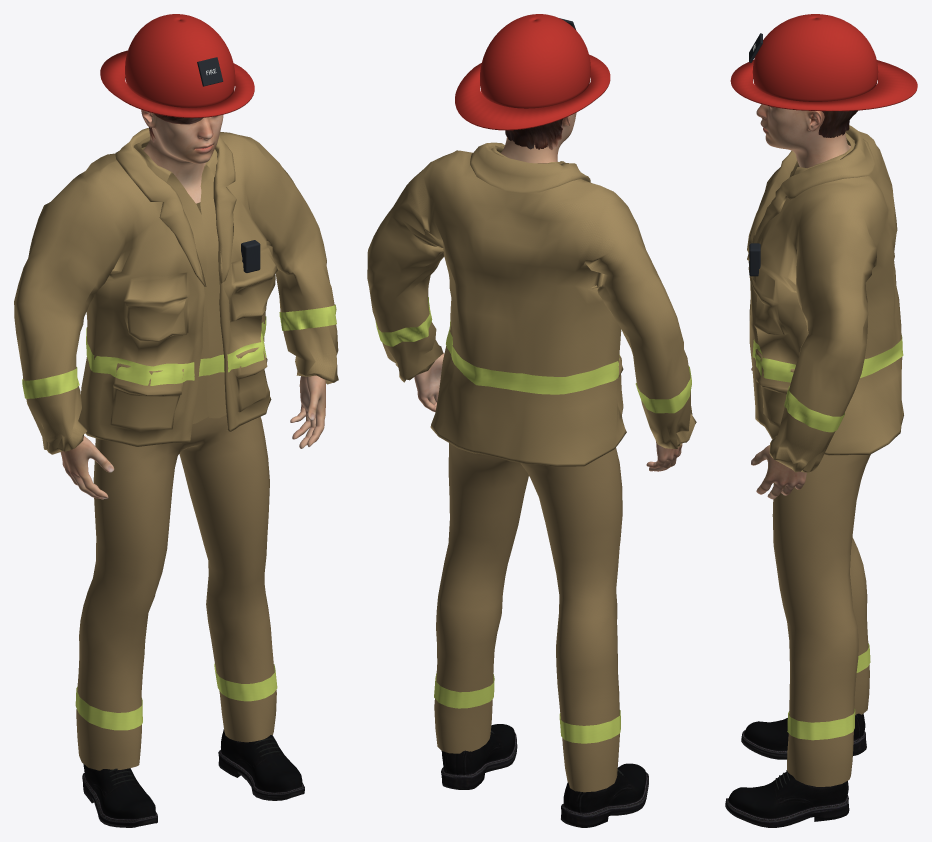
Rendered from firefighter.glb.
3 renders of one model, left to right at view 1: azimuth 30°, elevation 25°; view 2: azimuth 150°, elevation 25°; view 3: azimuth 270°, elevation 25°, orthographic.
Parts seen in each view (by area): view 1: male_casualsuit05, Fire helmet shell, Finley | anatomical body, shoes03, Uniform fitted band, Fire helmet extended brim, Uniform fitted band.001, Uniform fitted band.003, Uniform fitted band.004, Uniform fitted band.002; view 2: male_casualsuit05, Fire helmet shell, shoes03, Fire helmet extended brim, Uniform fitted band, Finley | anatomical body, Uniform fitted band.001, short03, Uniform fitted band.003, Uniform fitted band.004, Uniform fitted band.002; view 3: male_casualsuit05, Fire helmet shell, shoes03, Finley | anatomical body, Fire helmet extended brim, Uniform fitted band, Uniform fitted band.003, Uniform fitted band.004, short03, Firefighter radio.
Boxes of the visible parts, x1,y1,x2,y2 form: male_casualsuit05: (14,127,338,770); Fire helmet shell: (125,14,235,107); Finley | anatomical body: (60,110,325,499); shoes03: (82,729,304,827); Uniform fitted band: (86,316,266,385); Fire helmet extended brim: (100,50,254,118); Uniform fitted band.001: (75,686,142,730); Uniform fitted band.003: (214,663,277,701); Uniform fitted band.004: (279,304,336,330); Uniform fitted band.002: (22,367,79,398); male_casualsuit05: (367,142,696,792); Fire helmet shell: (480,14,590,108); shoes03: (441,724,648,827); Fire helmet extended brim: (455,54,610,130); Uniform fitted band: (446,320,619,394); Finley | anatomical body: (414,112,682,471); Uniform fitted band.001: (559,710,620,743); short03: (505,119,562,149); Uniform fitted band.003: (434,673,494,708); Uniform fitted band.004: (375,297,432,346); Uniform fitted band.002: (635,366,691,413); male_casualsuit05: (747,125,903,786); Fire helmet shell: (752,14,878,101); shoes03: (725,713,866,827); Finley | anatomical body: (751,104,850,499); Fire helmet extended brim: (730,60,917,111); Uniform fitted band: (752,335,903,382); Uniform fitted band.003: (787,708,855,740); Uniform fitted band.004: (784,386,844,432); short03: (818,110,857,137); Firefighter radio: (749,243,760,276).
Bounding box in the file's own units: 0.7836 × 1.89 × 0.4323.
Materials: 13 (13 with a texture image).
